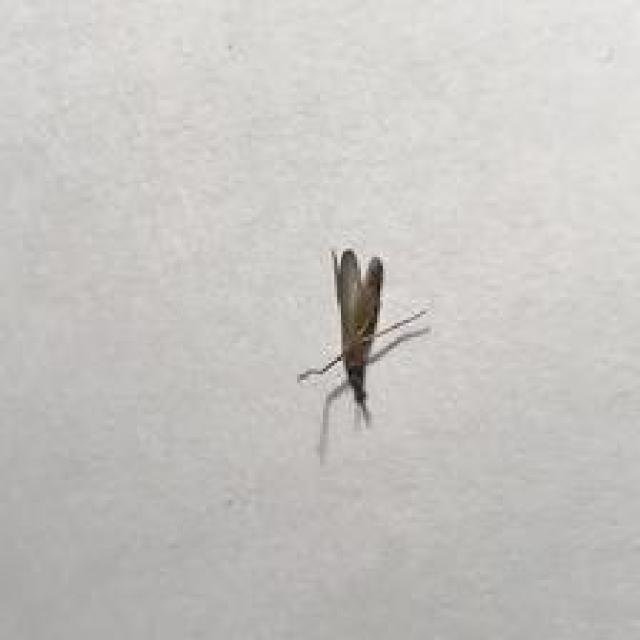Culex: (296, 246, 430, 463)
